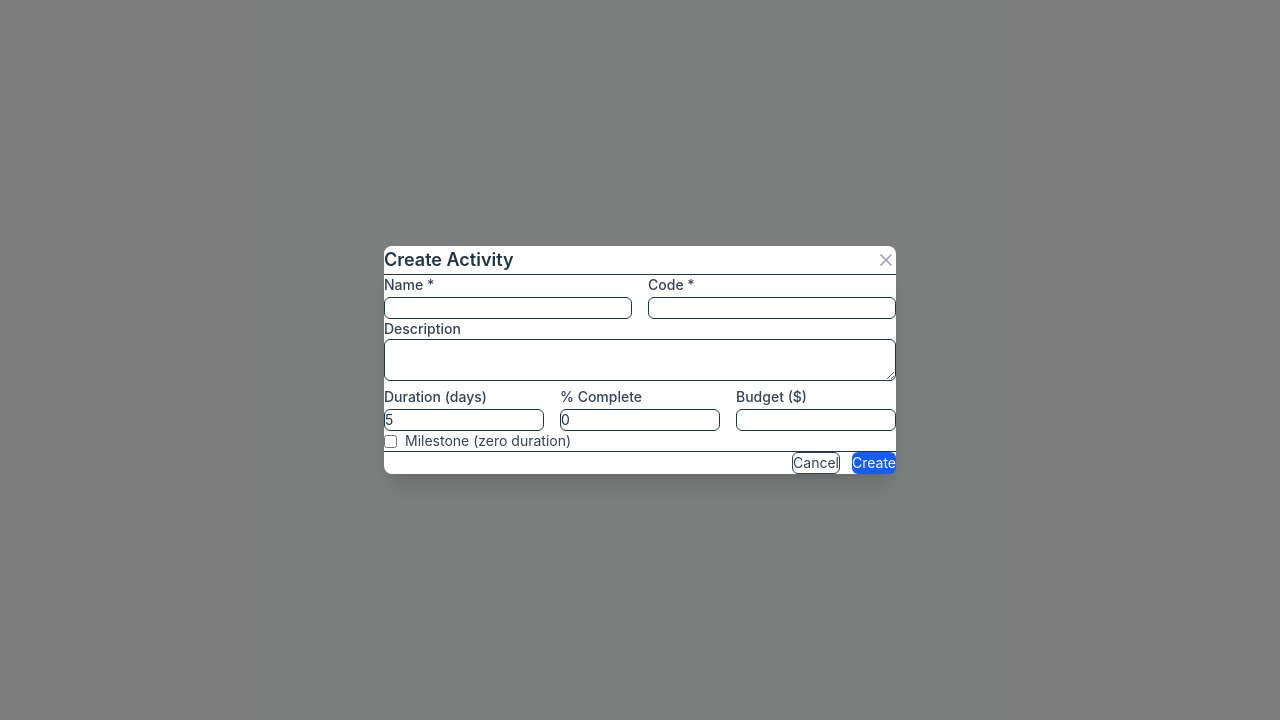
it: ActivityFormModal › onSubmit error path › shows error toast when create fails
Type "Fail Task" into the field labelled "Name *".
click(508, 308); type("Fail Task")  # box [384,297,632,319]
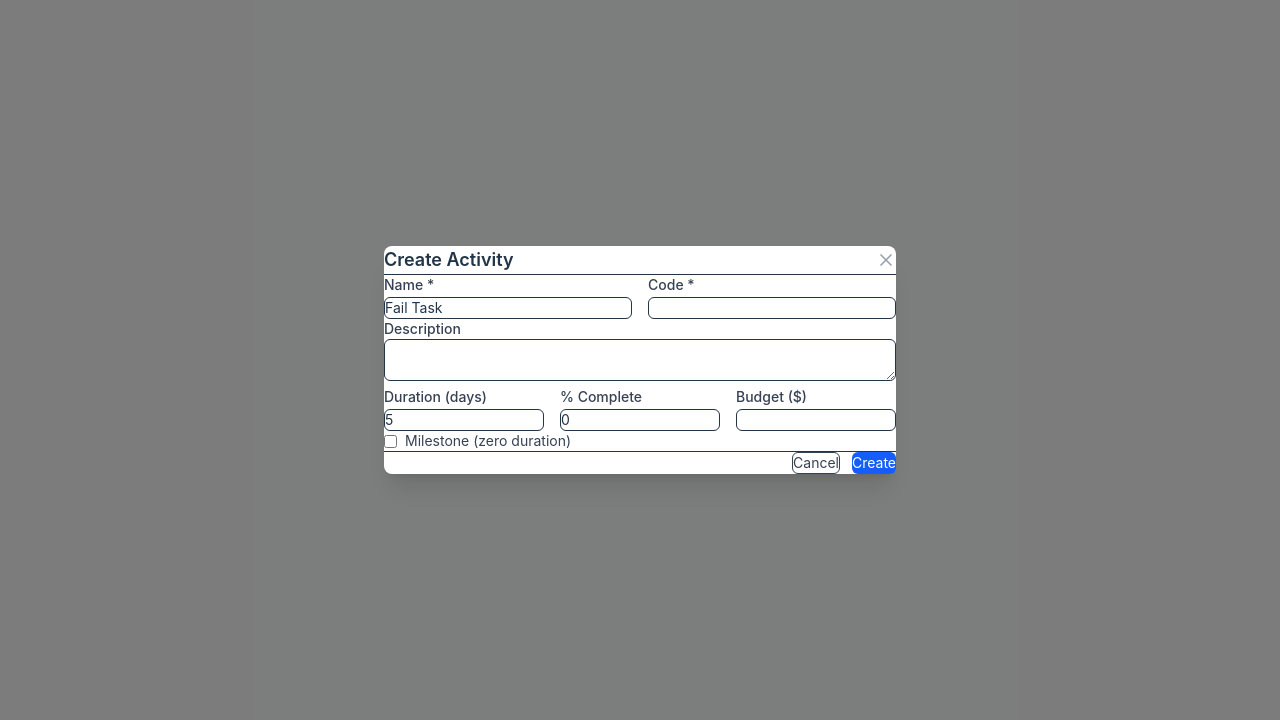
Type "FT-001" into the field labelled "Code *".
click(772, 308); type("FT-001")  # box [648,297,896,319]
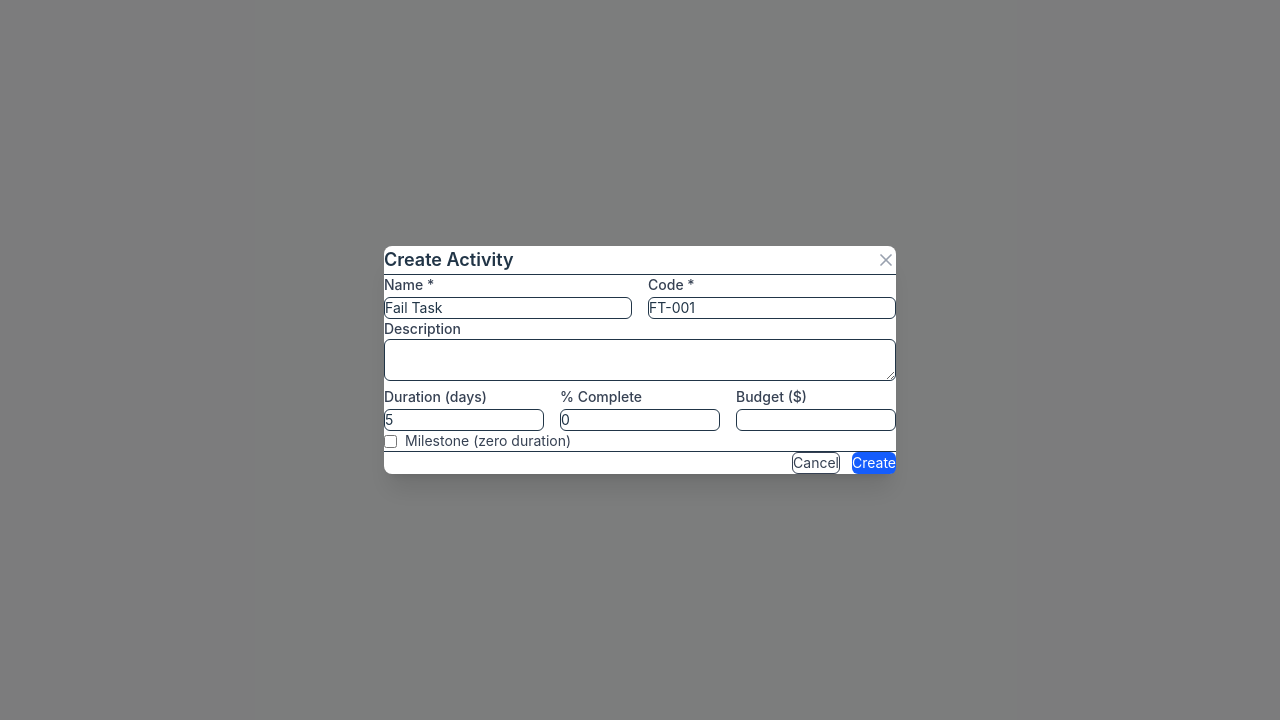
Submit the form from the button "Create", box [852,452,896,474]
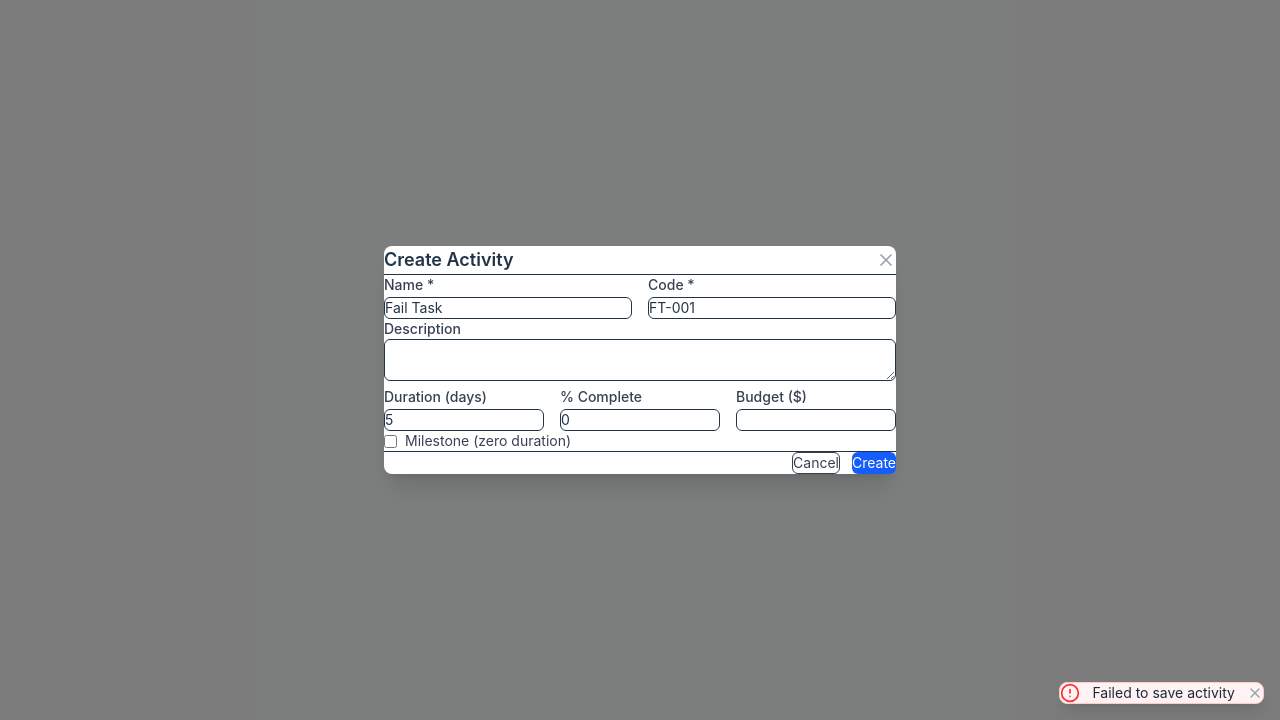
Check: the text "Failed to save activity" is shown, box [1092,683,1235,703]
